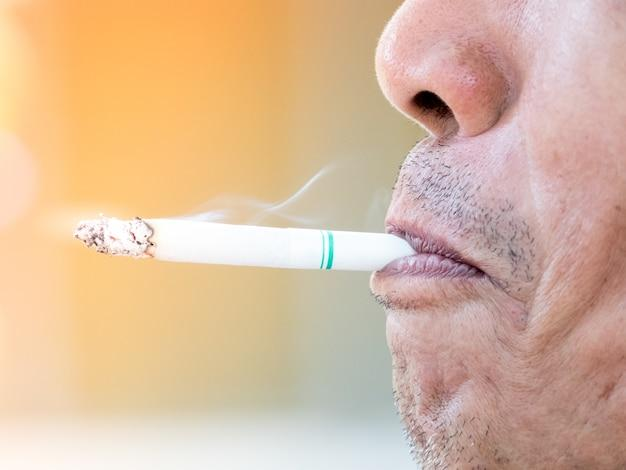cigarette: (74, 217, 414, 270)
